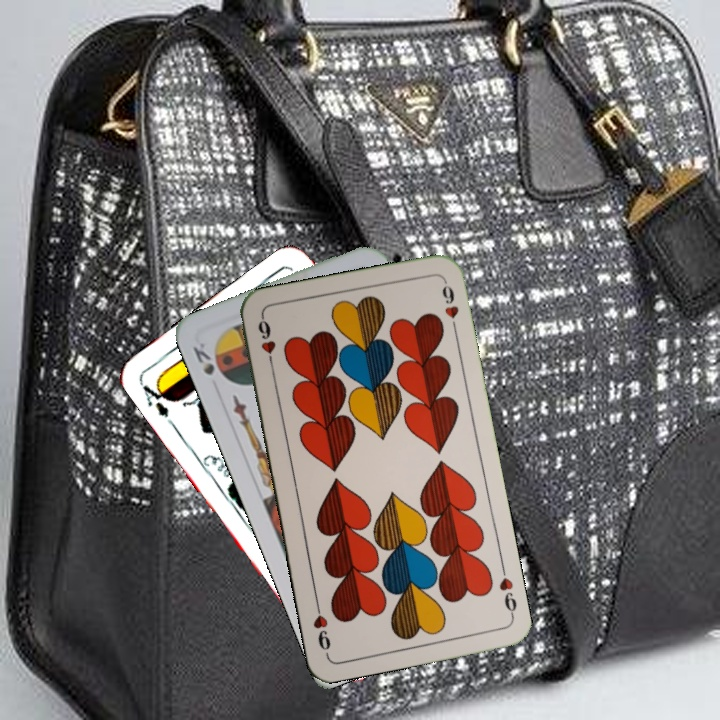EA: (136, 377, 177, 429)
H9: (254, 313, 278, 372), (495, 573, 520, 621)
SK: (188, 338, 217, 378)
